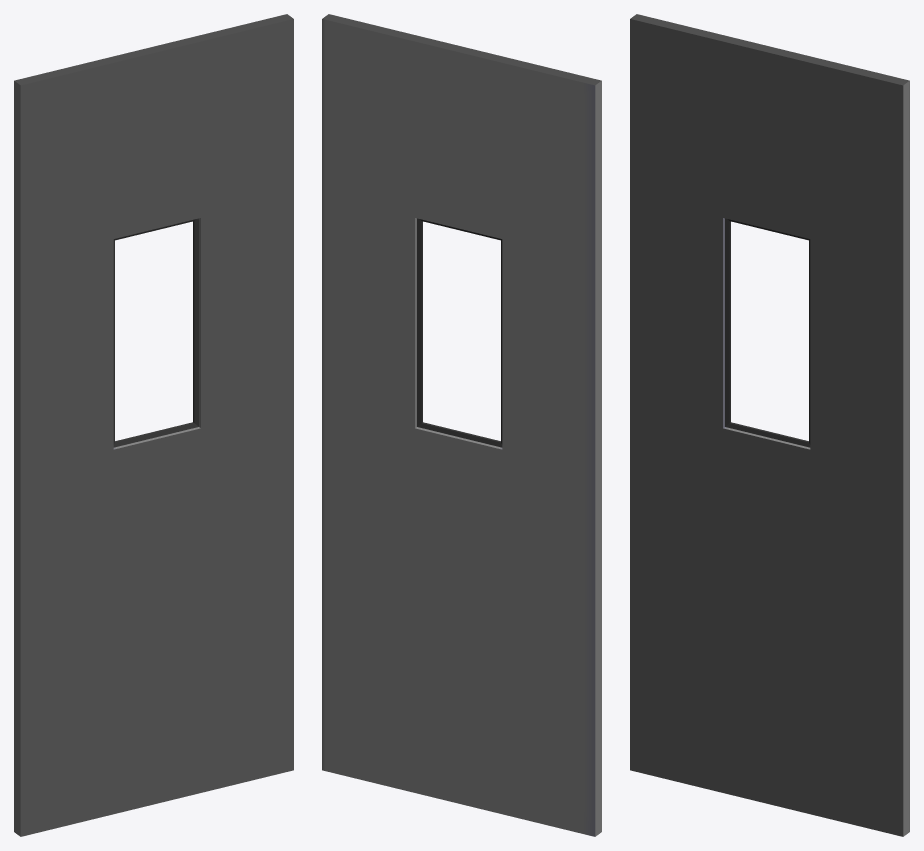
File: SW_ENV_Elevator_DoorInner.fbx
The picture shows the model from 3 angles, left to right: view 1: azimuth 30°, elevation 25°; view 2: azimuth 150°, elevation 25°; view 3: azimuth 330°, elevation 25°; orthographic projection.
Parts seen in each view (by area): view 1: SW_ENV_Elevator_DoorInner; view 2: SW_ENV_Elevator_DoorInner; view 3: SW_ENV_Elevator_DoorInner.
Part boxes in pixels (left/top/right/bottom): SW_ENV_Elevator_DoorInner: left=14, top=14, right=293, bottom=836; SW_ENV_Elevator_DoorInner: left=322, top=14, right=601, bottom=836; SW_ENV_Elevator_DoorInner: left=630, top=14, right=909, bottom=836.
Bounding box in the file's own units: 95 × 250 × 4.
